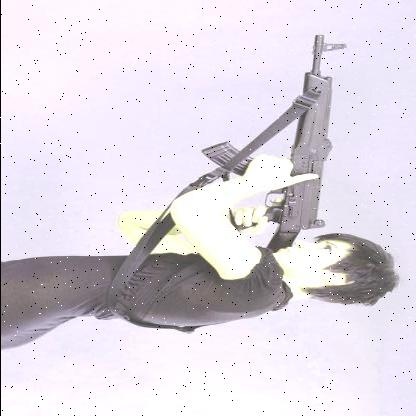rifle: (197, 32, 359, 253)
